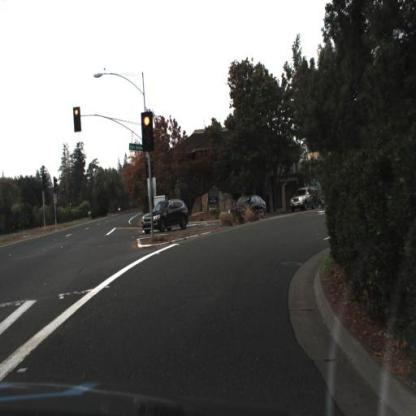car: (138, 197, 193, 237), (229, 196, 269, 220), (289, 184, 314, 213)
trafficLight-Red: (140, 107, 156, 157), (73, 104, 83, 135), (149, 160, 154, 178)
